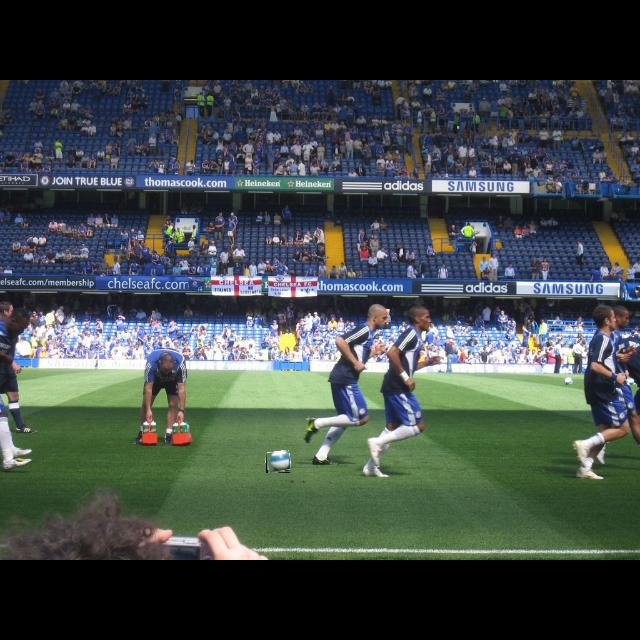Football: (266, 451, 290, 473)
